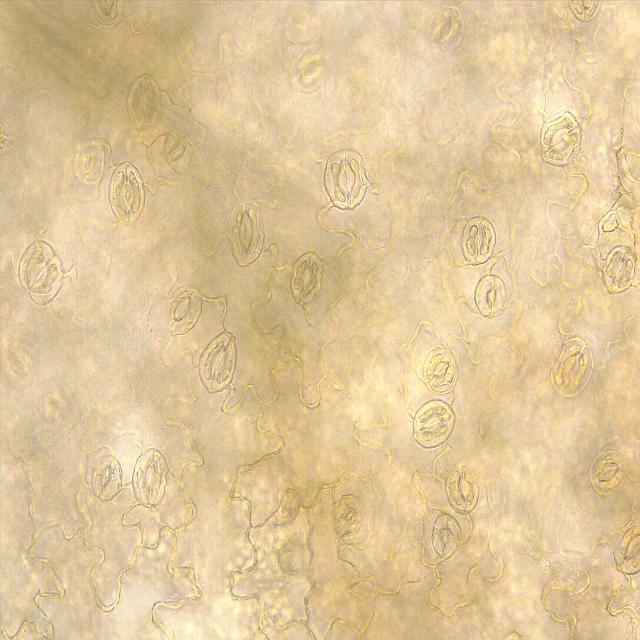Stomata: (17, 240, 64, 306), (549, 335, 595, 399), (323, 147, 368, 211), (198, 329, 238, 395), (108, 161, 146, 227), (227, 201, 265, 267), (539, 109, 582, 167), (131, 447, 168, 509), (125, 72, 162, 134), (412, 399, 456, 449), (289, 45, 331, 93), (166, 284, 203, 337), (600, 243, 637, 296), (426, 4, 464, 55), (588, 449, 628, 497), (421, 346, 459, 395), (460, 215, 496, 266), (290, 249, 324, 303), (71, 137, 105, 186), (448, 462, 480, 513), (473, 272, 508, 318), (612, 519, 640, 576), (91, 454, 123, 502), (430, 512, 462, 558), (331, 492, 365, 534), (567, 0, 601, 21)
